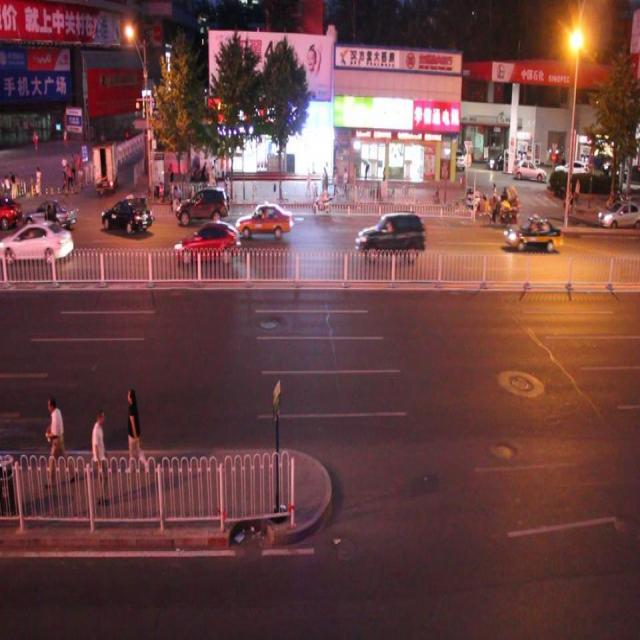car: (346, 207, 428, 268), (497, 205, 569, 266), (165, 174, 232, 235), (173, 222, 243, 270), (0, 223, 80, 263), (228, 194, 295, 238), (97, 199, 158, 242)
